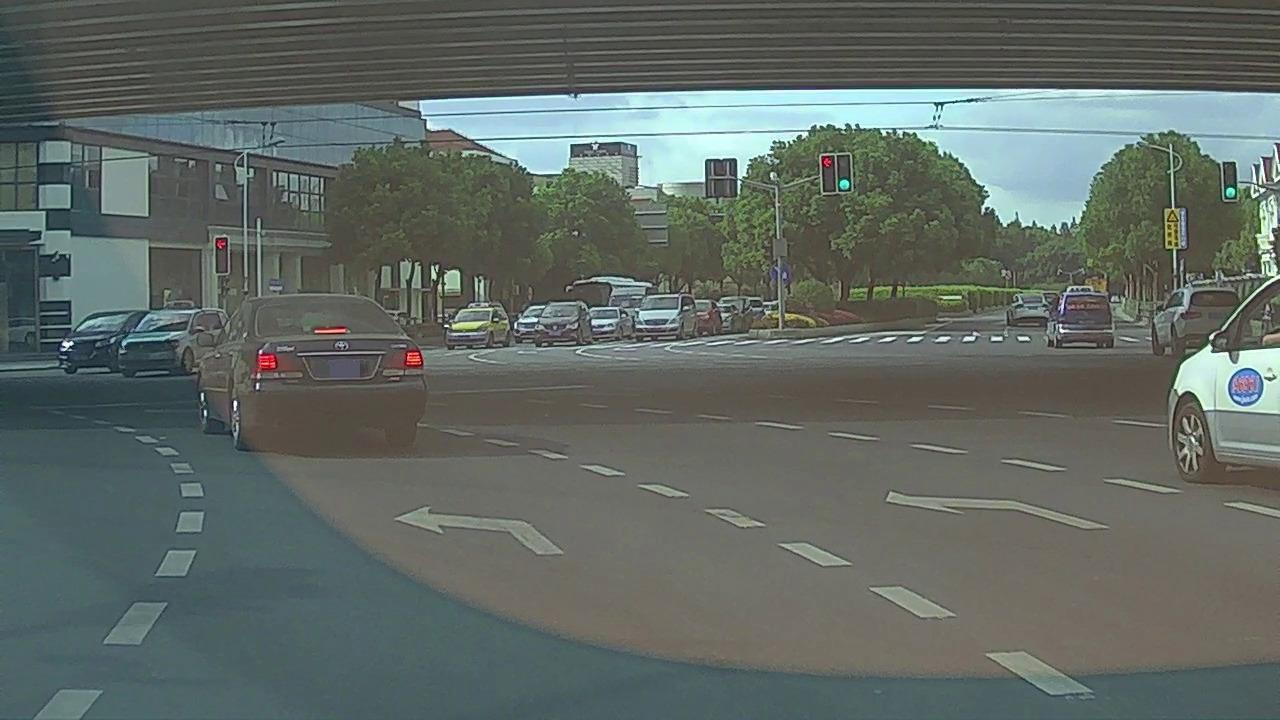traffic_light: (837, 154, 852, 192), (823, 156, 836, 193), (216, 237, 228, 273)
